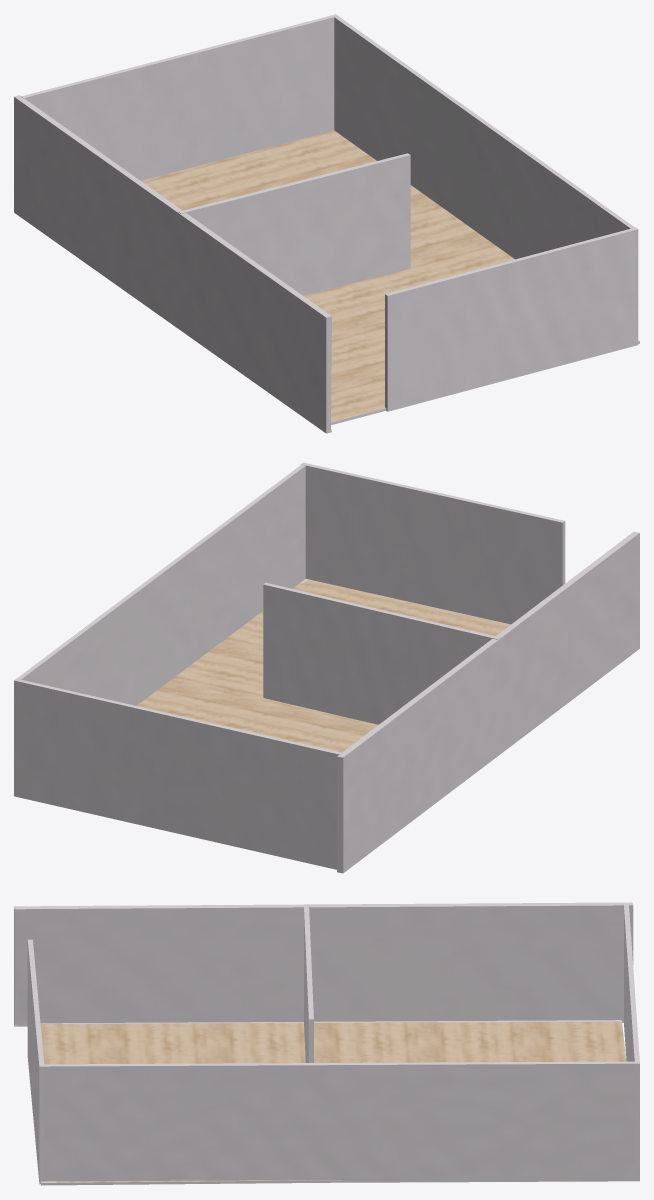
The model's file is medLabTexture.glb.
3 renders of one model, top to bottom at view 1: azimuth 30°, elevation 25°; view 2: azimuth 150°, elevation 25°; view 3: azimuth 270°, elevation 25°, orthographic.
Parts seen in each view (by area): view 1: polySurface11, polySurface12, polySurface8, polySurface9, polySurface10, polySurface7; view 2: polySurface8, polySurface11, polySurface12, polySurface9, polySurface7, polySurface10; view 3: polySurface11, polySurface9, polySurface10, polySurface12, polySurface8, polySurface7.
Part boxes in pixels (x1,y1,x2,y2): polySurface11: (14, 95, 331, 433); polySurface12: (385, 227, 638, 411); polySurface8: (21, 14, 338, 180); polySurface9: (334, 16, 634, 259); polySurface10: (141, 130, 639, 424); polySurface7: (178, 153, 410, 295); polySurface8: (14, 678, 341, 869); polySurface11: (337, 531, 639, 873); polySurface12: (300, 462, 565, 624); polySurface9: (17, 464, 305, 705); polySurface7: (263, 582, 499, 724); polySurface10: (16, 579, 510, 796); polySurface11: (14, 902, 633, 1026); polySurface9: (44, 1061, 637, 1182); polySurface10: (40, 1020, 626, 1185); polySurface12: (27, 939, 44, 1184); polySurface8: (624, 904, 639, 1181); polySurface7: (304, 904, 313, 1062).
Size of the model in its own units: 5.57 by 1.85 by 8.88.
Materials: 1 (1 with a texture image).
